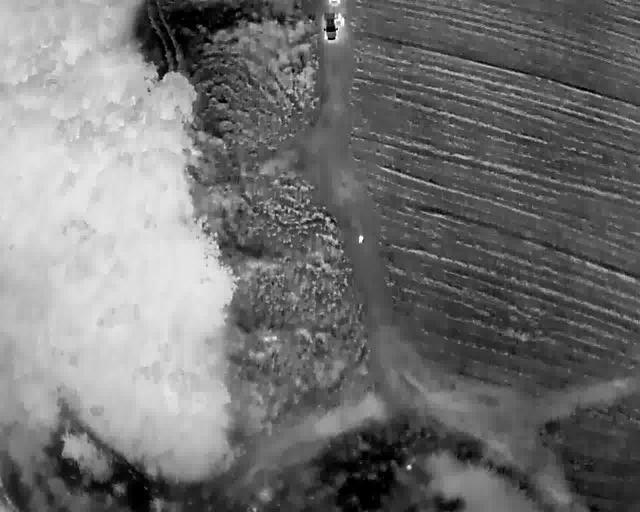car: (323, 12, 338, 40)
person: (358, 235, 363, 243), (337, 12, 341, 21), (341, 16, 344, 26)
